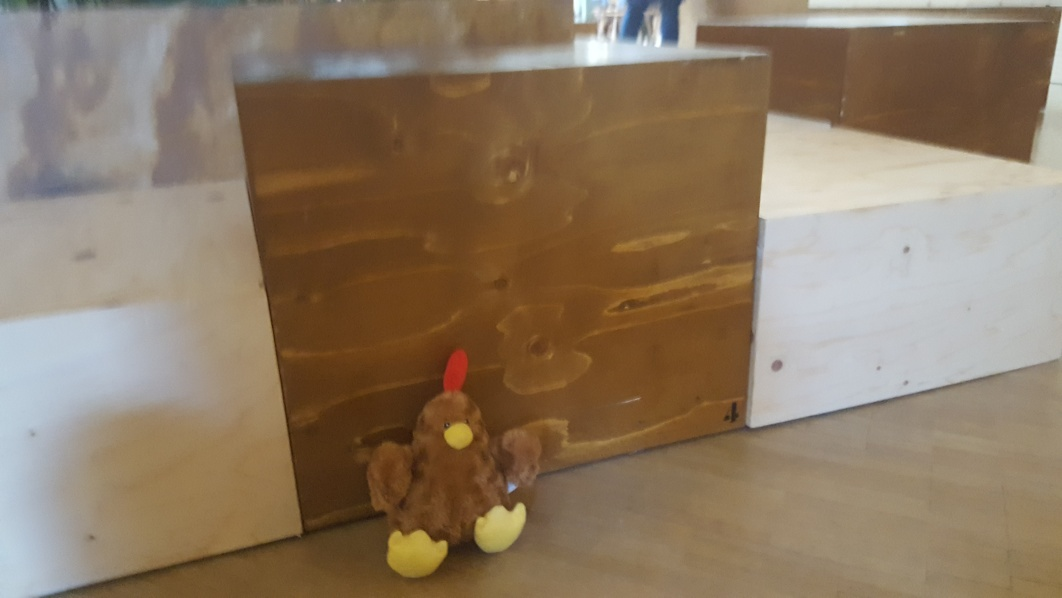chicken: (359, 351, 535, 581)
